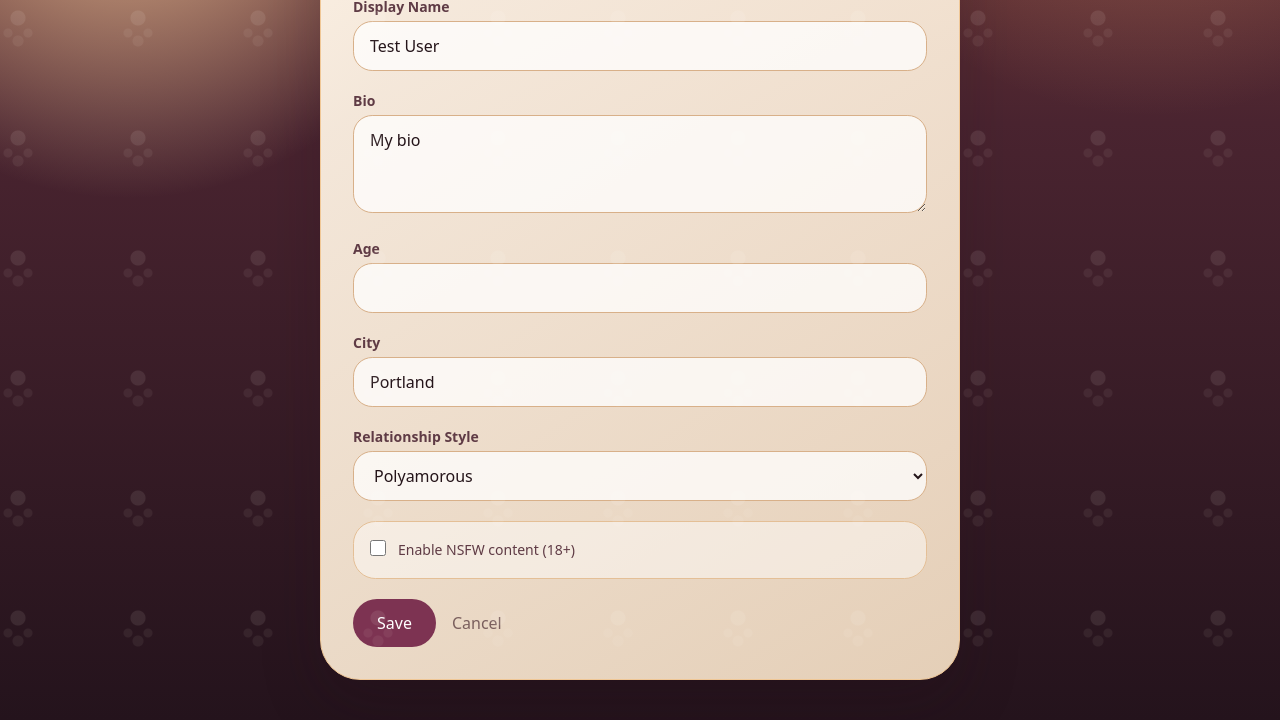
Test case: ProfileEditPage › shows age confirmation modal when enabling NSFW with no age set
(page scrolled)
Click the checkbox labelled "Enable NSFW content (18+)" at [378, 548], box x1=370 y1=540 x2=386 y2=556
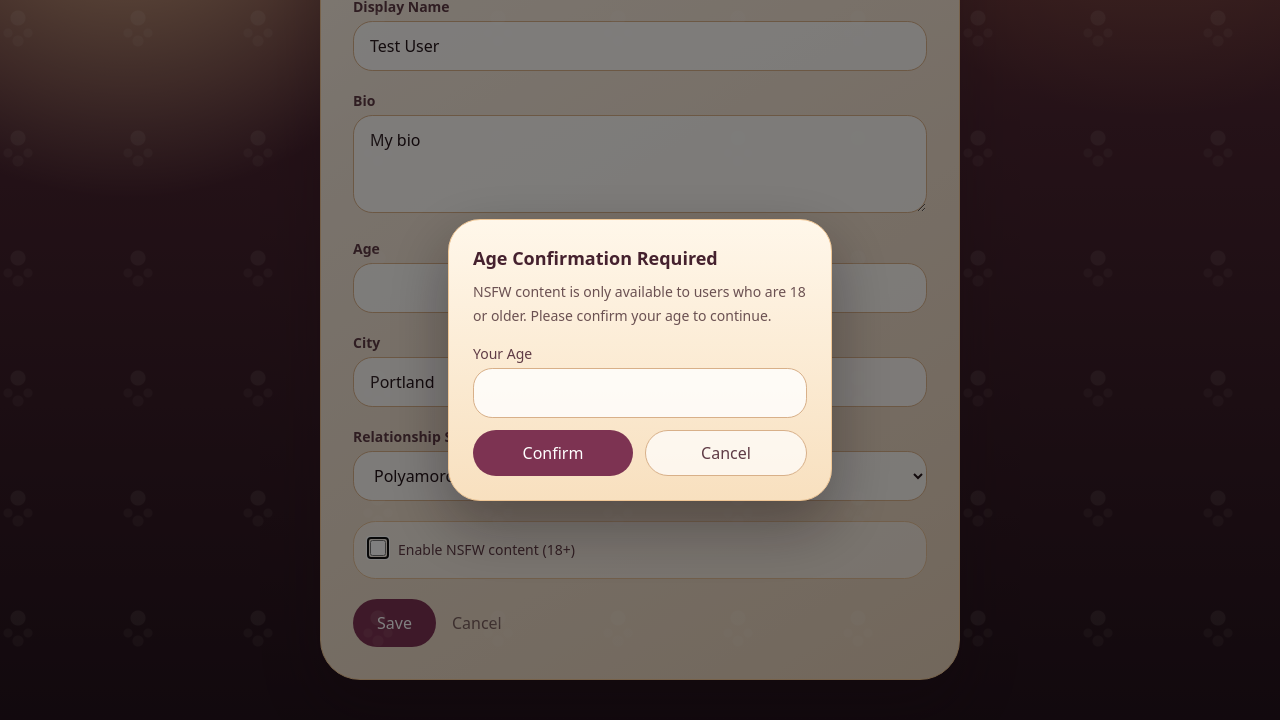
Now the dialog is shown
Now the heading "Age Confirmation Required" is shown, box x1=473 y1=246 x2=718 y2=270
